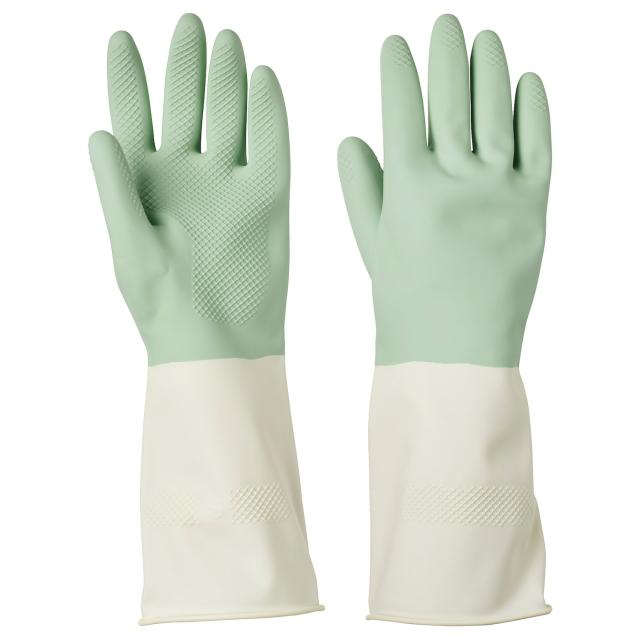gloves: (81, 8, 326, 630), (330, 5, 564, 634)
